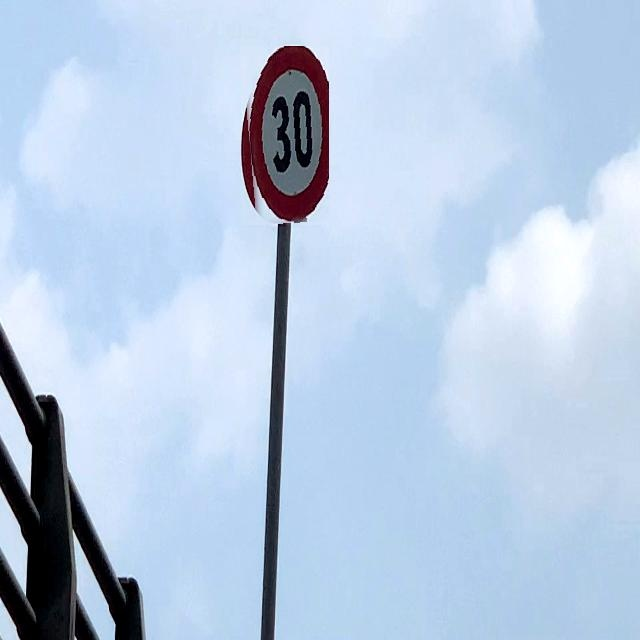bien_cam: (241, 46, 329, 225)
